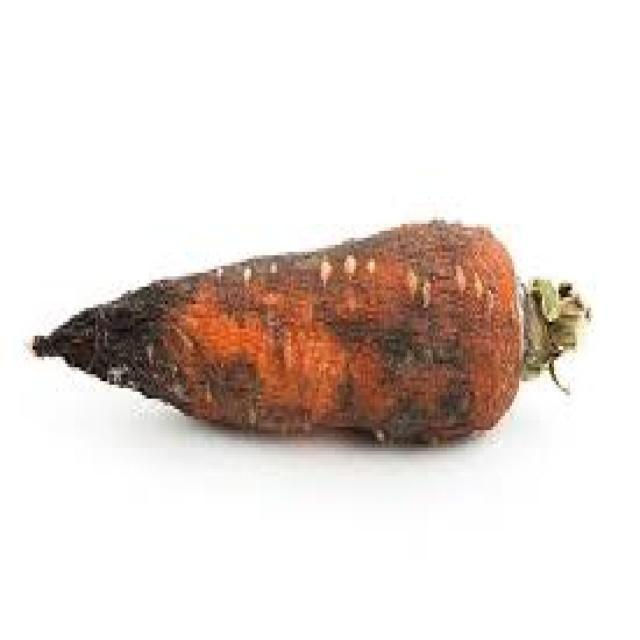Stale_Carrot: (19, 210, 593, 468)
